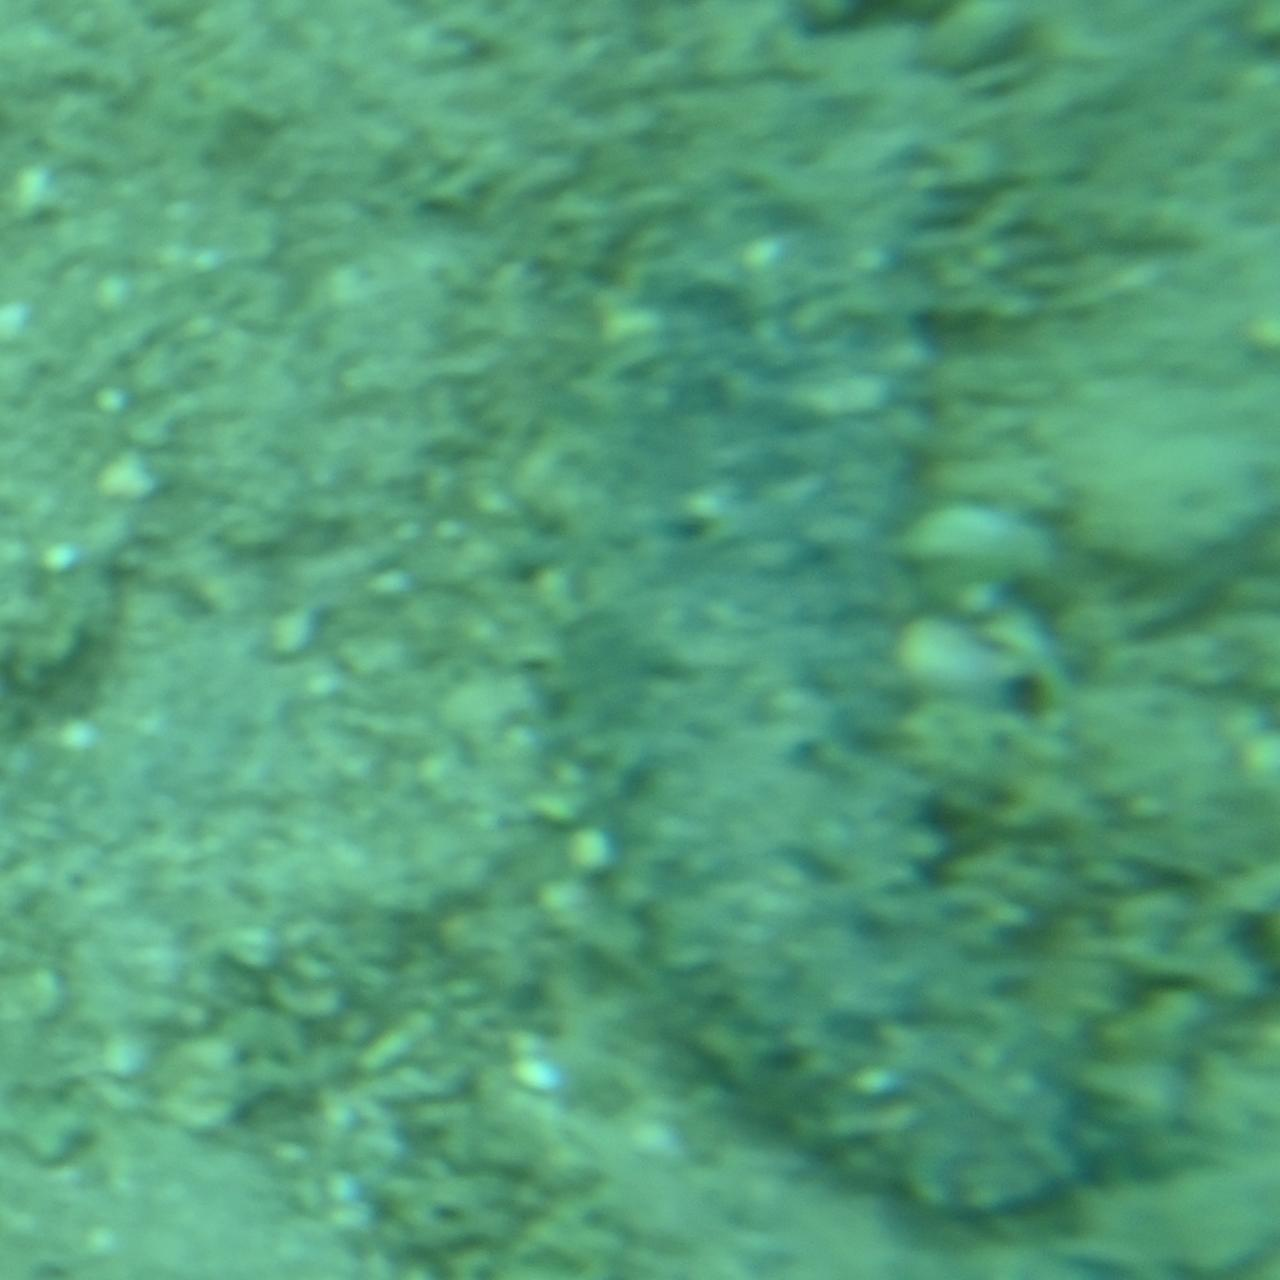Holothuria tubulosa: (558, 54, 1143, 1226)
